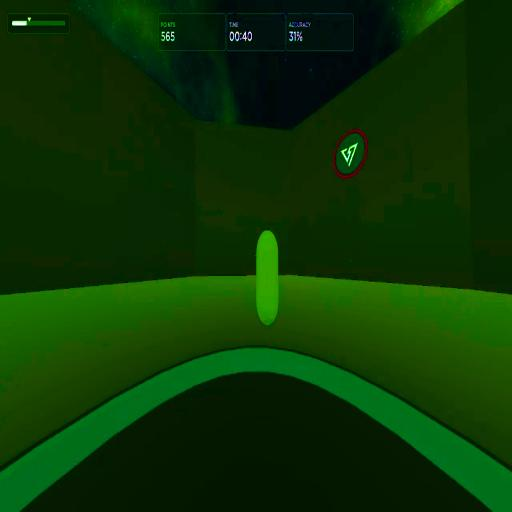Crosshair: (256, 254, 258, 258)
Target: (256, 230, 279, 326)
